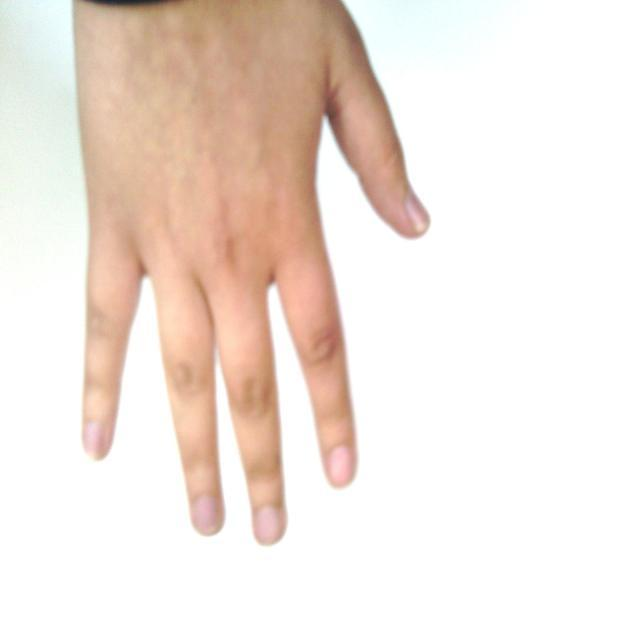Fingernail: (329, 447, 352, 487), (194, 497, 218, 534), (256, 507, 280, 543), (406, 193, 429, 230), (85, 424, 104, 457)
